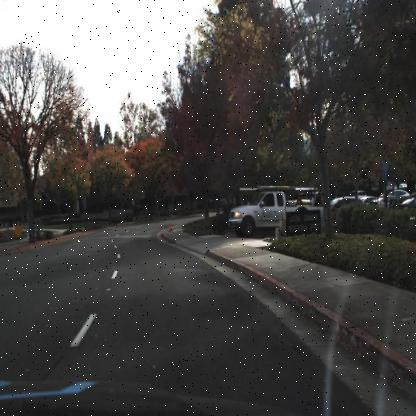car: (226, 191, 328, 236)
